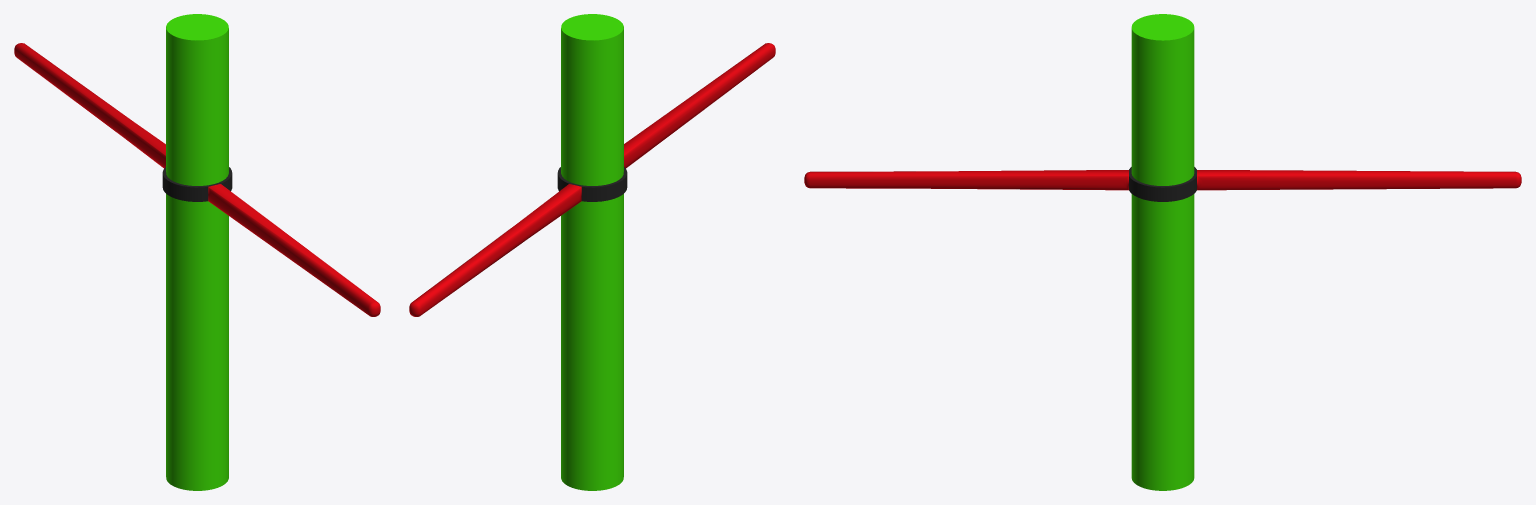
The model's file is rotating pole (1).fbx.
3 renders of one model, left to right at view 1: azimuth 30°, elevation 25°; view 2: azimuth 150°, elevation 25°; view 3: azimuth 270°, elevation 25°, orthographic.
Parts seen in each view (by area): view 1: Cylinder.023, Cylinder.006; view 2: Cylinder.023, Cylinder.006; view 3: Cylinder.023, Cylinder.006.
Part boxes in pixels (box(x1,y1,x2,y2)): Cylinder.023: box(166, 14, 228, 490); Cylinder.006: box(14, 43, 380, 316); Cylinder.023: box(561, 14, 623, 490); Cylinder.006: box(409, 43, 775, 316); Cylinder.023: box(1131, 14, 1194, 490); Cylinder.006: box(804, 167, 1521, 201).
Size of the model in its own units: 222 by 1582 by 2282.
